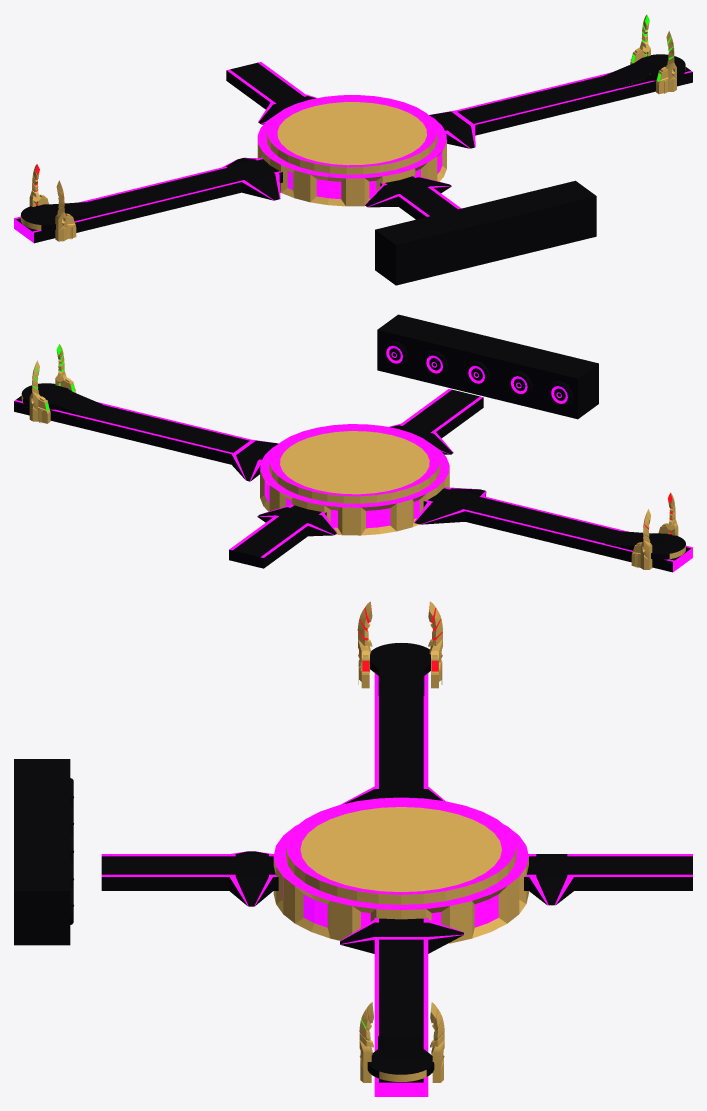
Rendered from stage.gltf.
3 views of the same model, one above another, from view 1: azimuth 30°, elevation 25°; view 2: azimuth 150°, elevation 25°; view 3: azimuth 270°, elevation 25° (orthographic). The views are drawn at different scales.
Parts seen in each view (by area): view 1: Walkway, Dance Floor, Speaker, Scrapyard Portal Frame, Race Hub Portal Frame; view 2: Walkway, Dance Floor, Speaker, Scrapyard Portal Frame, Race Hub Portal Frame; view 3: Dance Floor, Walkway, Speaker, Race Hub Portal Frame, Scrapyard Portal Frame.
Boxes of the visible parts, x1,y1,x2,y2 form: Walkway: [14, 62, 692, 243]; Dance Floor: [257, 95, 446, 206]; Speaker: [375, 180, 596, 285]; Scrapyard Portal Frame: [604, 14, 685, 94]; Race Hub Portal Frame: [20, 164, 101, 241]; Walkway: [14, 389, 692, 572]; Dance Floor: [260, 424, 449, 535]; Speaker: [377, 314, 598, 419]; Scrapyard Portal Frame: [21, 344, 102, 423]; Race Hub Portal Frame: [605, 492, 685, 569]; Dance Floor: [273, 797, 528, 943]; Walkway: [101, 673, 692, 1096]; Speaker: [14, 759, 73, 945]; Race Hub Portal Frame: [357, 601, 442, 695]; Scrapyard Portal Frame: [359, 1002, 444, 1082].
Size of what is drawn, in the model's own units: 76.31 by 7.64 by 50.61.
